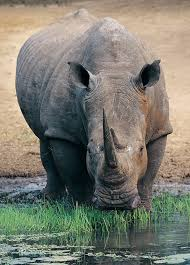Rhinoceros: (13, 7, 184, 226)
